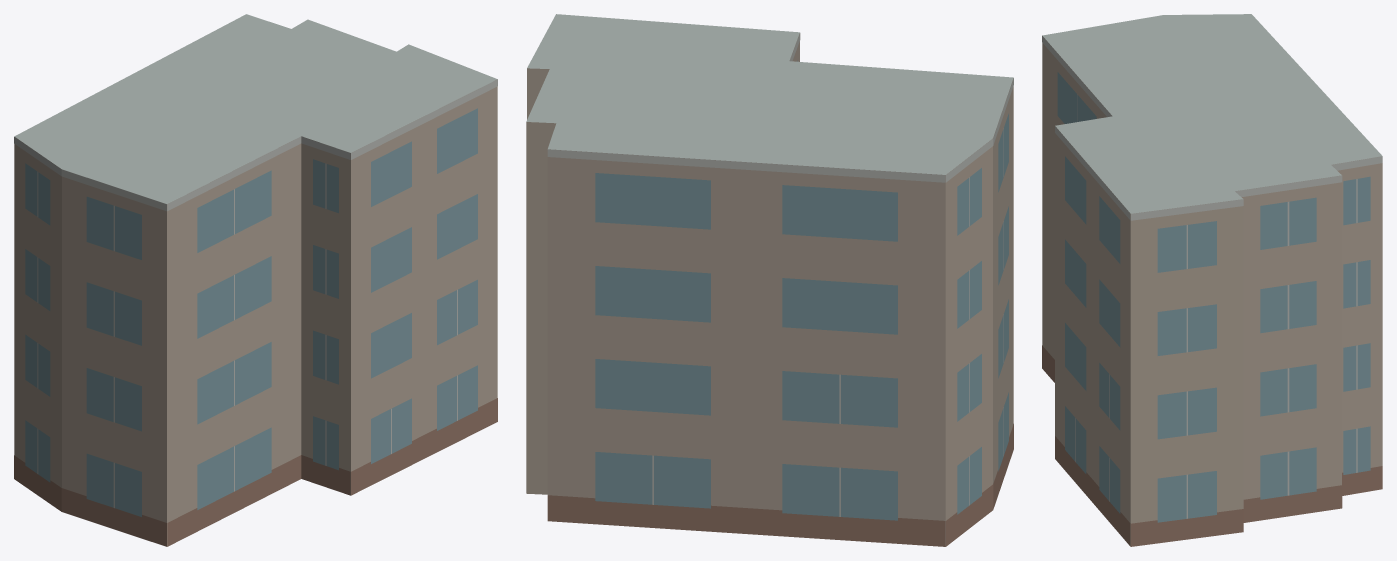
Rendered from survey-upis-32681998.glb.
3 views of the same model, side by side, from view 1: azimuth 30°, elevation 25°; view 2: azimuth 150°, elevation 25°; view 3: azimuth 270°, elevation 25° (orthographic). The views are drawn at different scales.
Parts seen in each view (by area): view 1: survey-upis-32681998.tmp; view 2: survey-upis-32681998.tmp; view 3: survey-upis-32681998.tmp.
Part boxes in pixels (left/top/right/bottom): survey-upis-32681998.tmp: left=14, top=14, right=497, bottom=546; survey-upis-32681998.tmp: left=526, top=14, right=1013, bottom=546; survey-upis-32681998.tmp: left=1042, top=14, right=1382, bottom=546.
Size of the model in its own units: 15.07 by 11.7 by 10.85.
